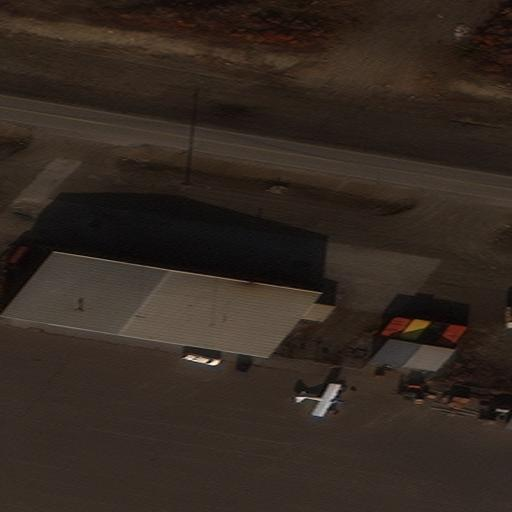Small Civil Transport: (294, 384, 344, 416)
